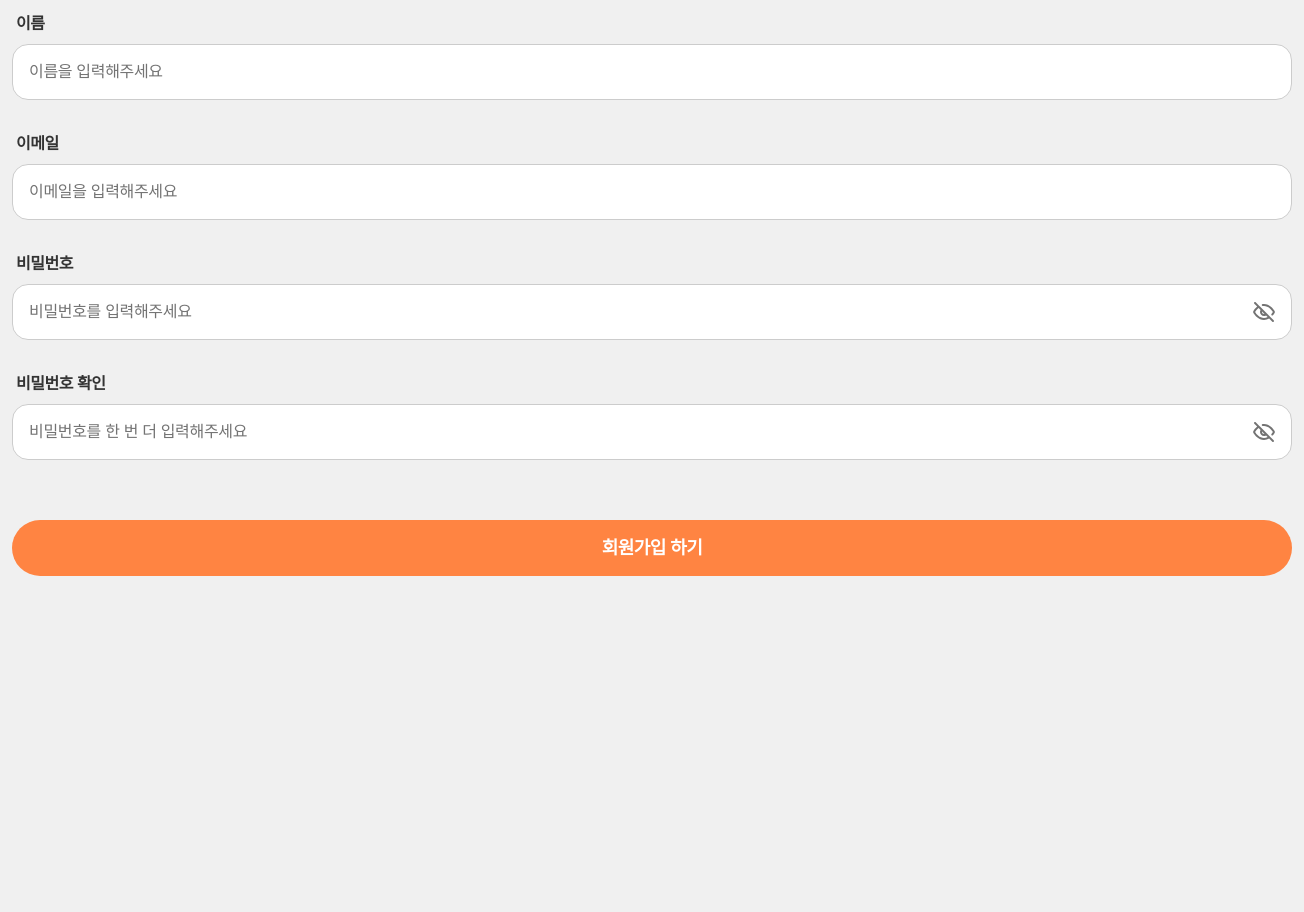
it: SignupForm › 그 밖의 실패는 토스트로 알린다
The width and height of the screenshot is (1304, 912).
Type "홍길동" into the field labelled "이름".
click(652, 72); type("홍길동")  # box [12, 44, 1292, 100]
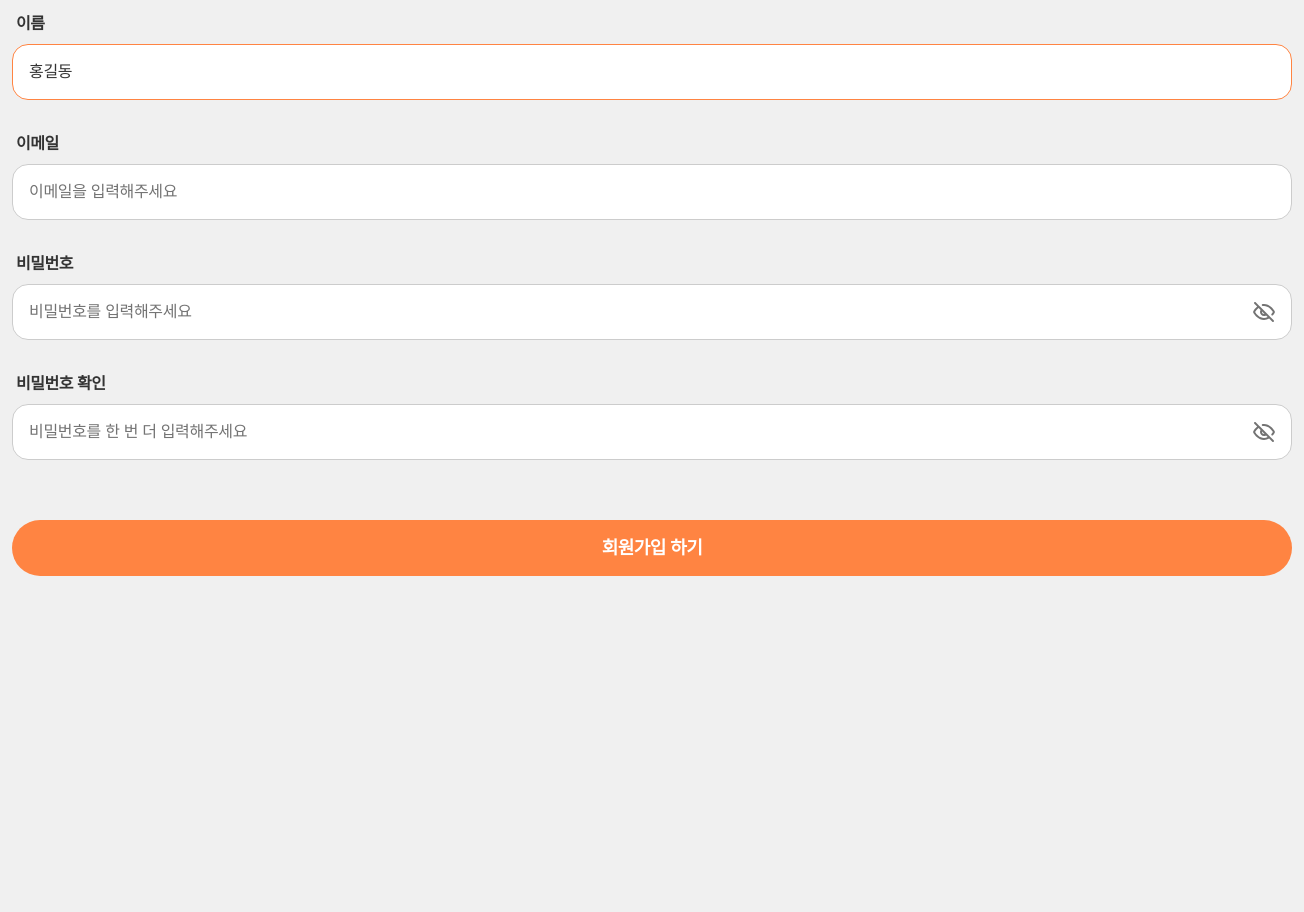
Type "user@example.com" into the field labelled "이메일".
click(652, 192); type("user@example.com")  # box [12, 164, 1292, 220]
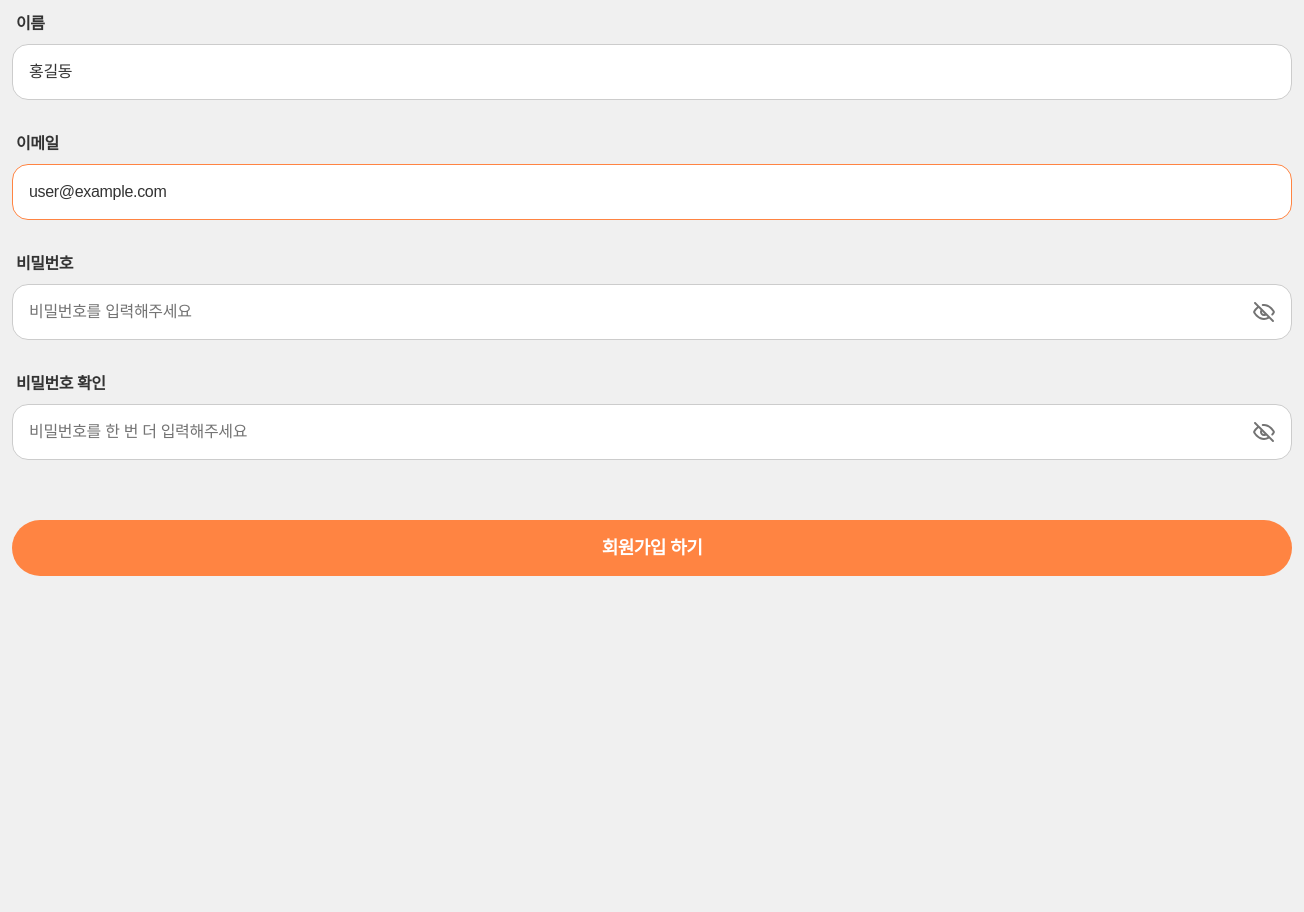
Type "password123" into the password field labelled "비밀번호".
click(652, 312); type("password123")  # box [12, 284, 1292, 340]
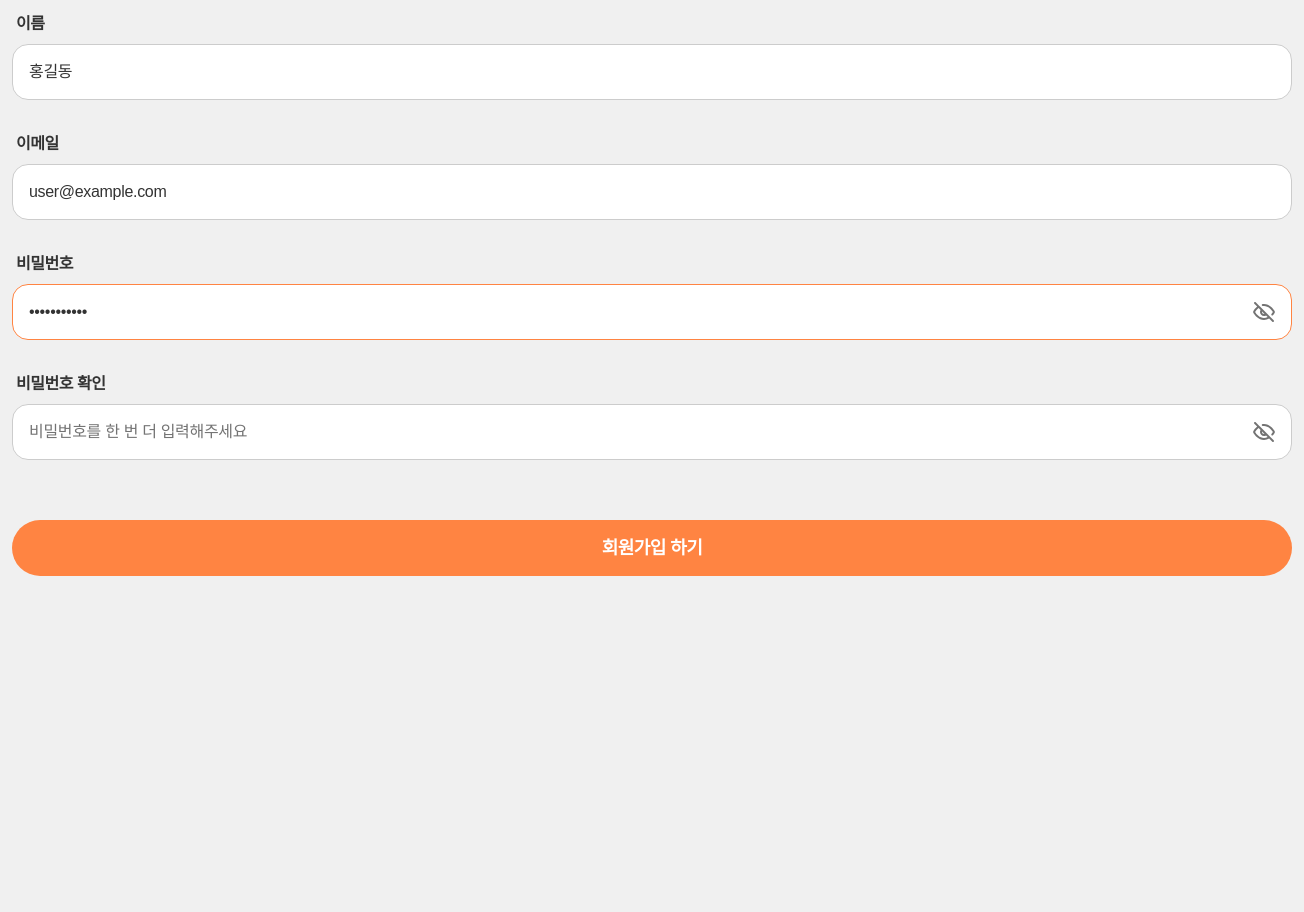
Type "password123" into the password field labelled "비밀번호 확인".
click(652, 432); type("password123")  # box [12, 404, 1292, 460]
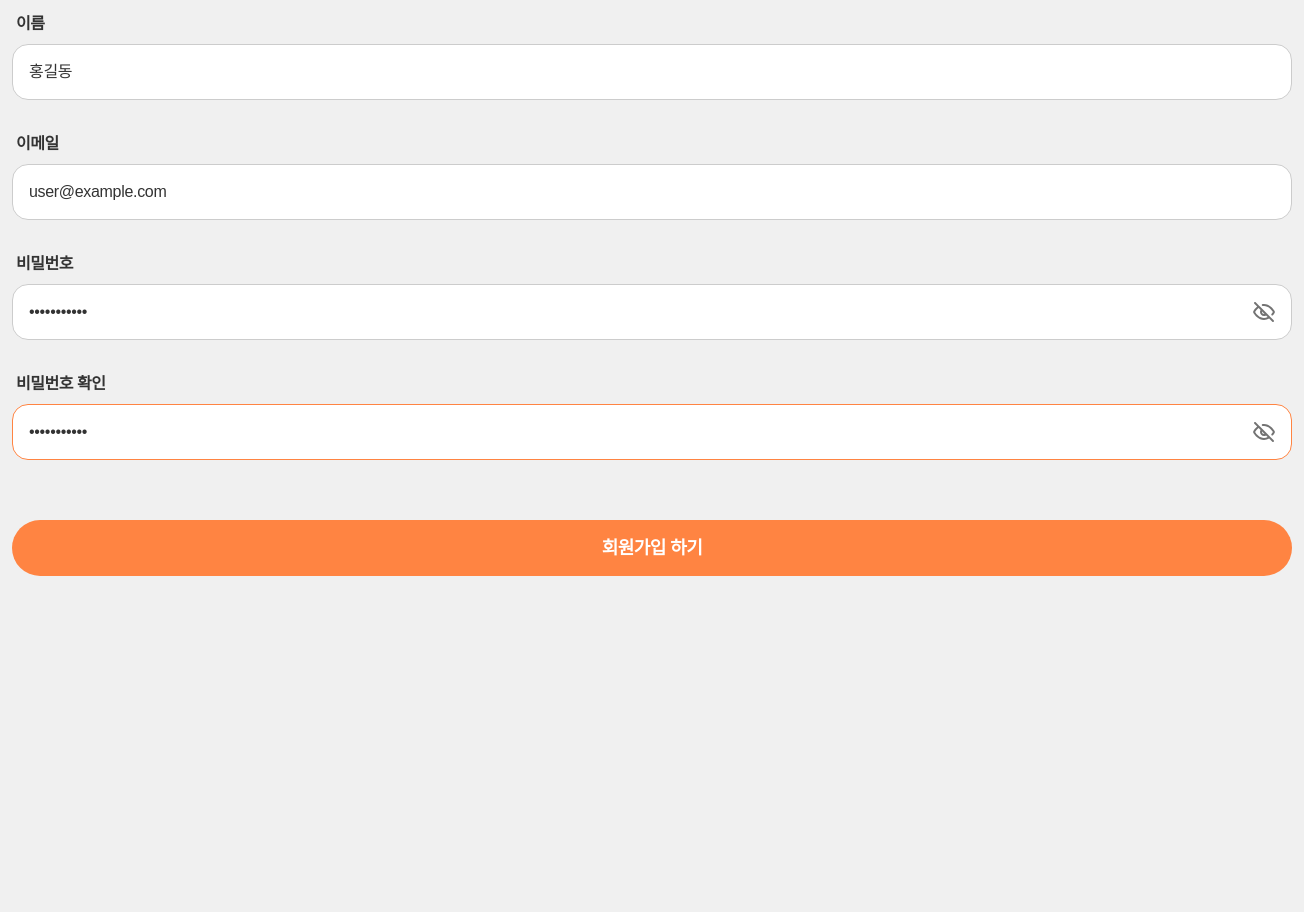
Click the button "회원가입 하기".
click(652, 548)  # box [12, 520, 1292, 576]
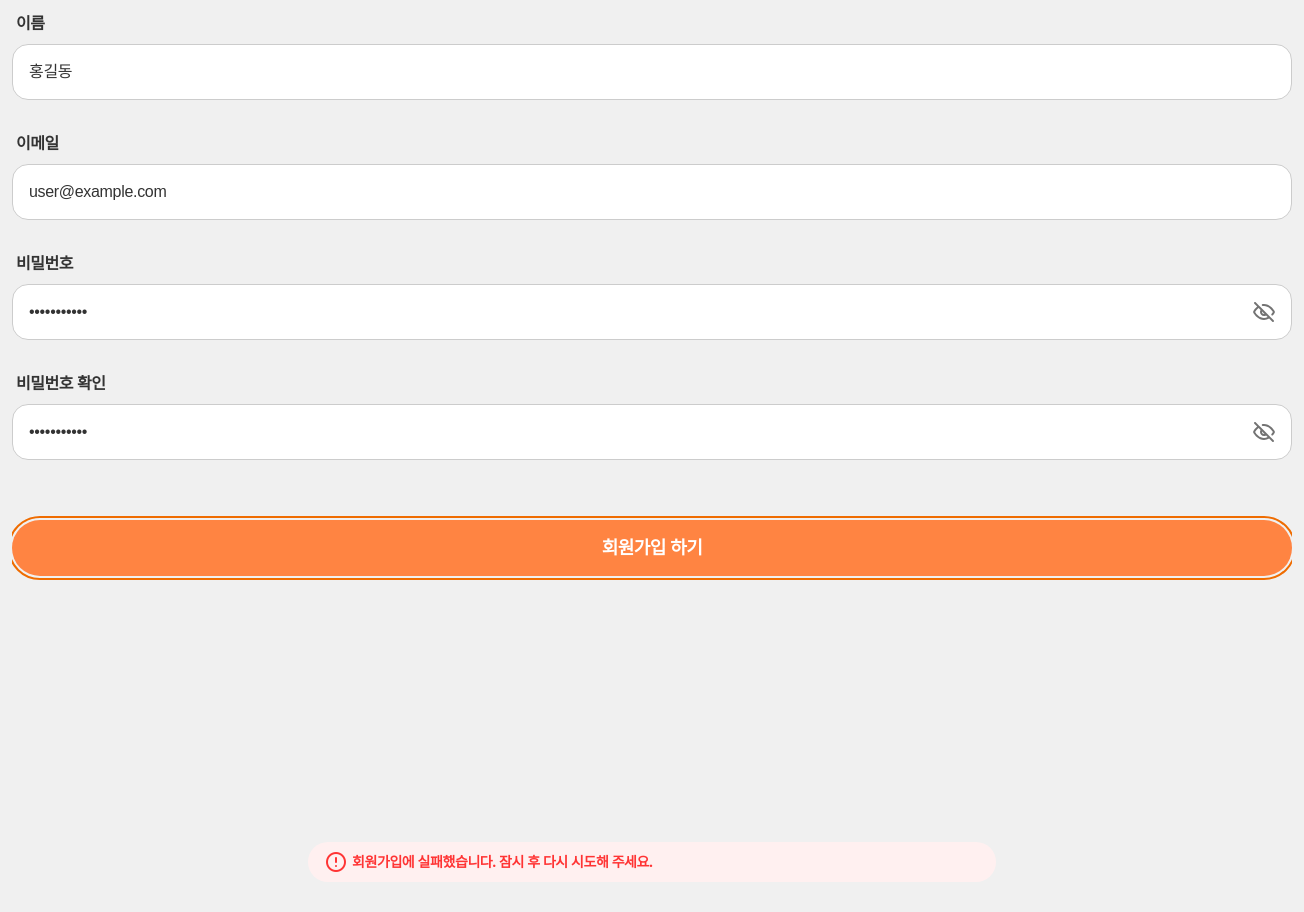
Expected: the text "회원가입에 실패했습니다. 잠시 후 다시 시도해 주세요." is shown, [352, 852, 653, 872]
